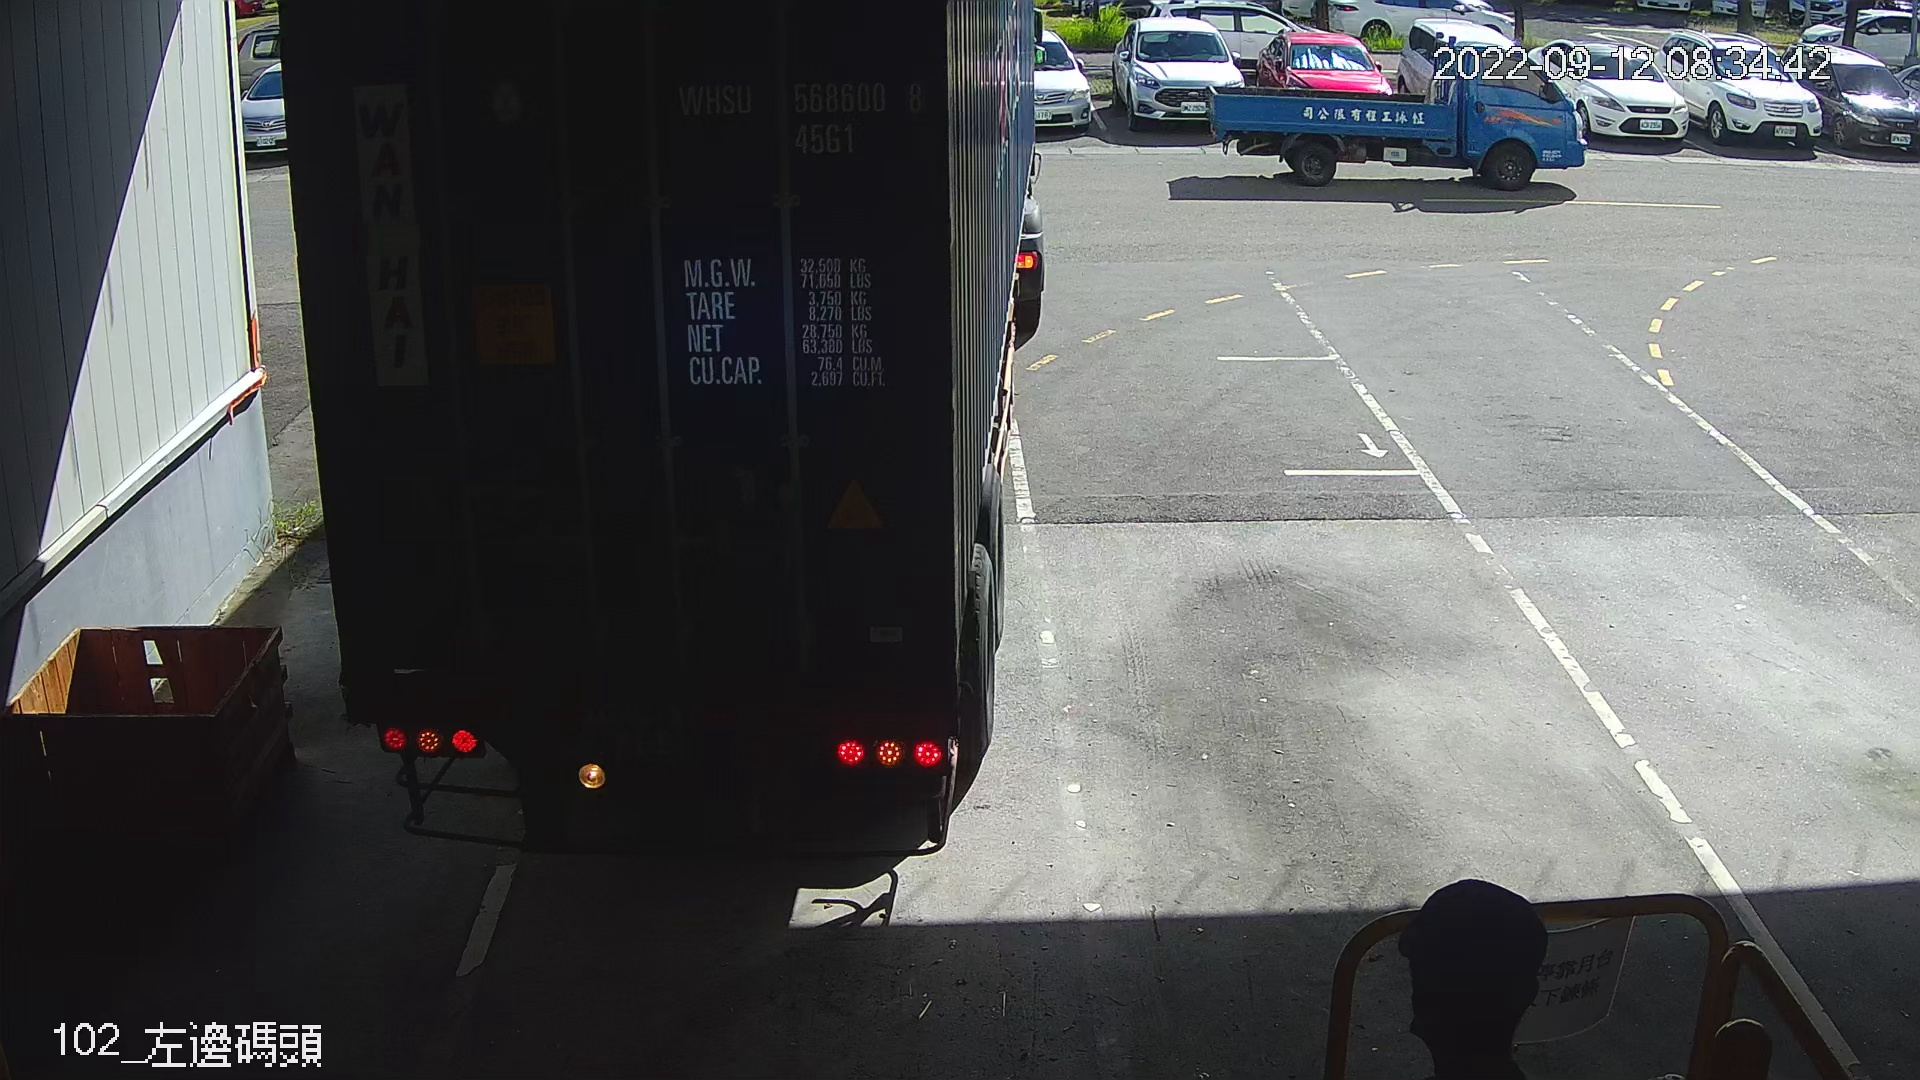container: (665, 66, 938, 167)
